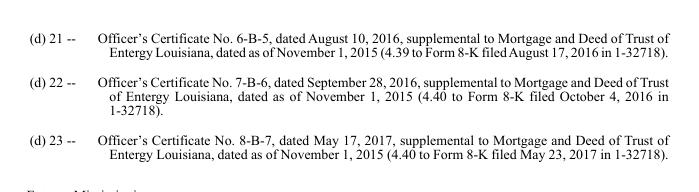table: (28, 29, 667, 160)
table column: (85, 29, 667, 160), (28, 29, 85, 160)
table row: (28, 66, 667, 124), (28, 29, 667, 66), (28, 124, 667, 160)
